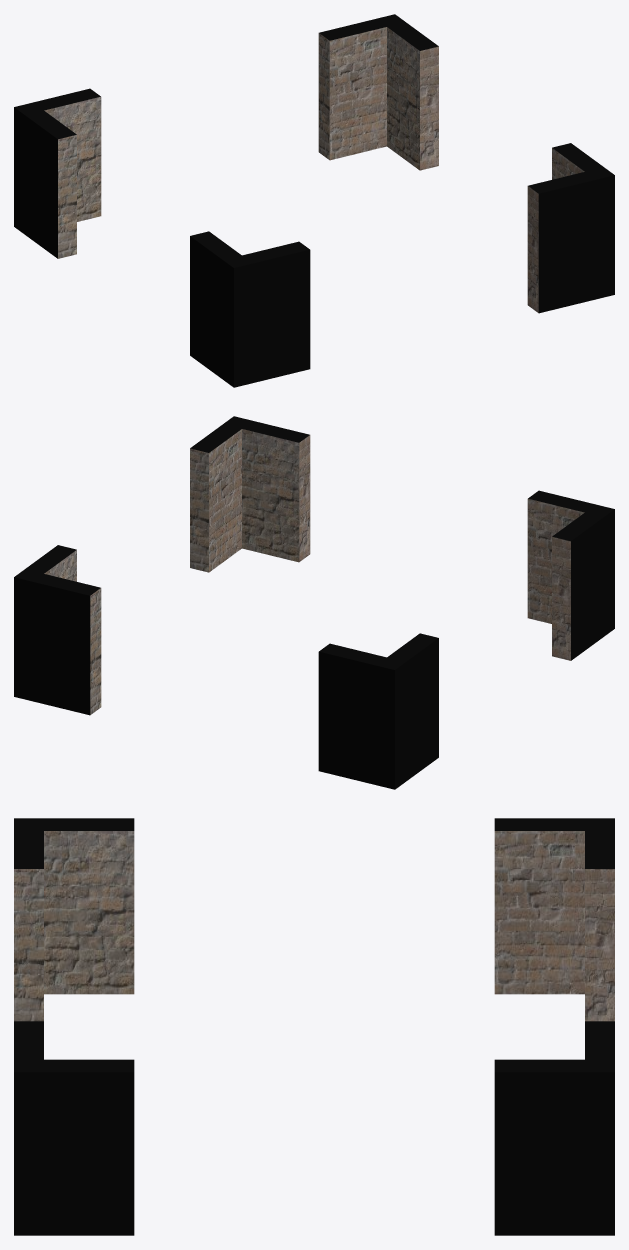
Rendered from room.FBX.
3 views of the same model, one above another, from view 1: azimuth 30°, elevation 25°; view 2: azimuth 150°, elevation 25°; view 3: azimuth 270°, elevation 25° (orthographic). The views are drawn at different scales.
Parts seen in each view (by area): view 1: Box001; view 2: Box001; view 3: Box001.
Part boxes in pixels (x1,y1,x2,y2): Box001: (14,14,614,387); Box001: (14,416,614,789); Box001: (14,818,614,1235).
Bounding box in the file's own units: 394 × 118 × 394.
2 materials, 1 textured.
